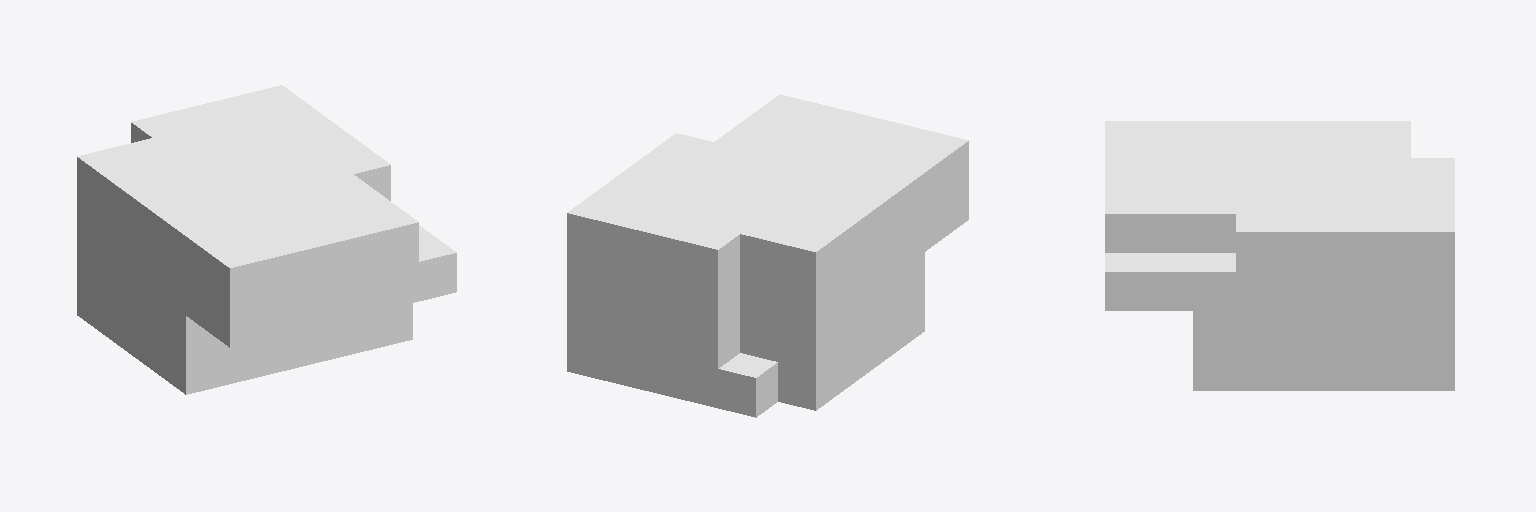
The model's file is Koala_I.obj.
3 renders of one model, left to right at view 1: azimuth 30°, elevation 25°; view 2: azimuth 150°, elevation 25°; view 3: azimuth 270°, elevation 25°, orthographic.
Visible parts, largest first — view 1: object 1; view 2: object 1; view 3: object 1.
Boxes of the visible parts, x1,y1,x2,y2 form: object 1: [77, 85, 456, 394]; object 1: [567, 94, 968, 417]; object 1: [1105, 121, 1454, 390].
Size of the model in its own units: 0.6 by 0.4 by 0.8.